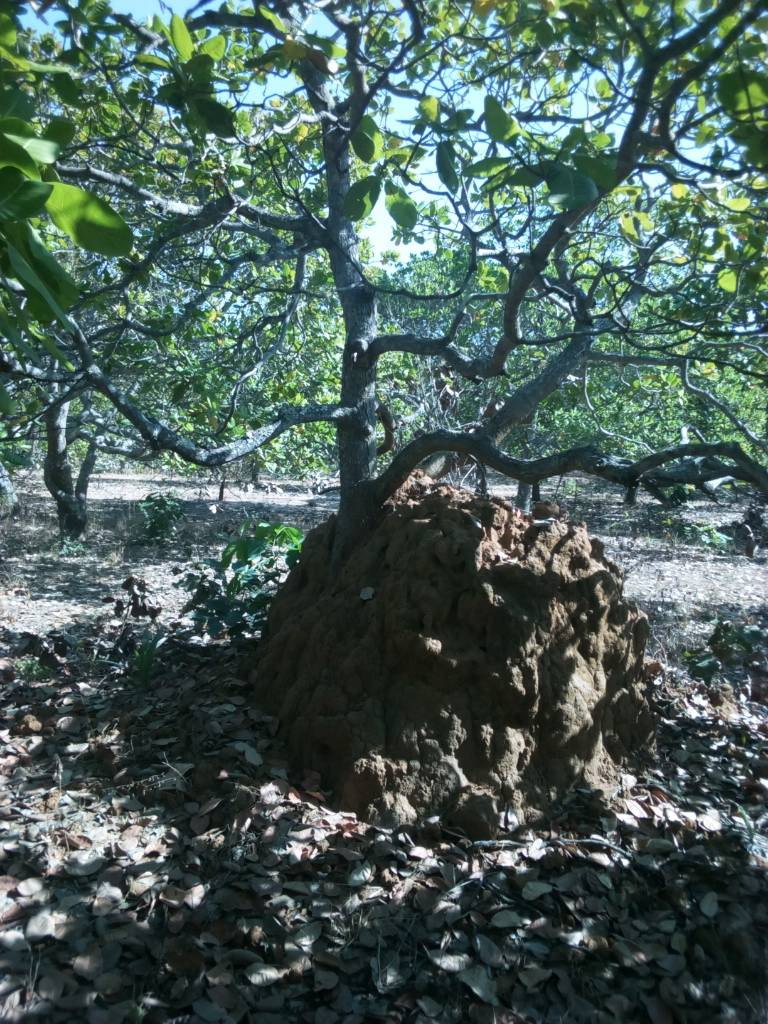Termites: (296, 513, 621, 797)
